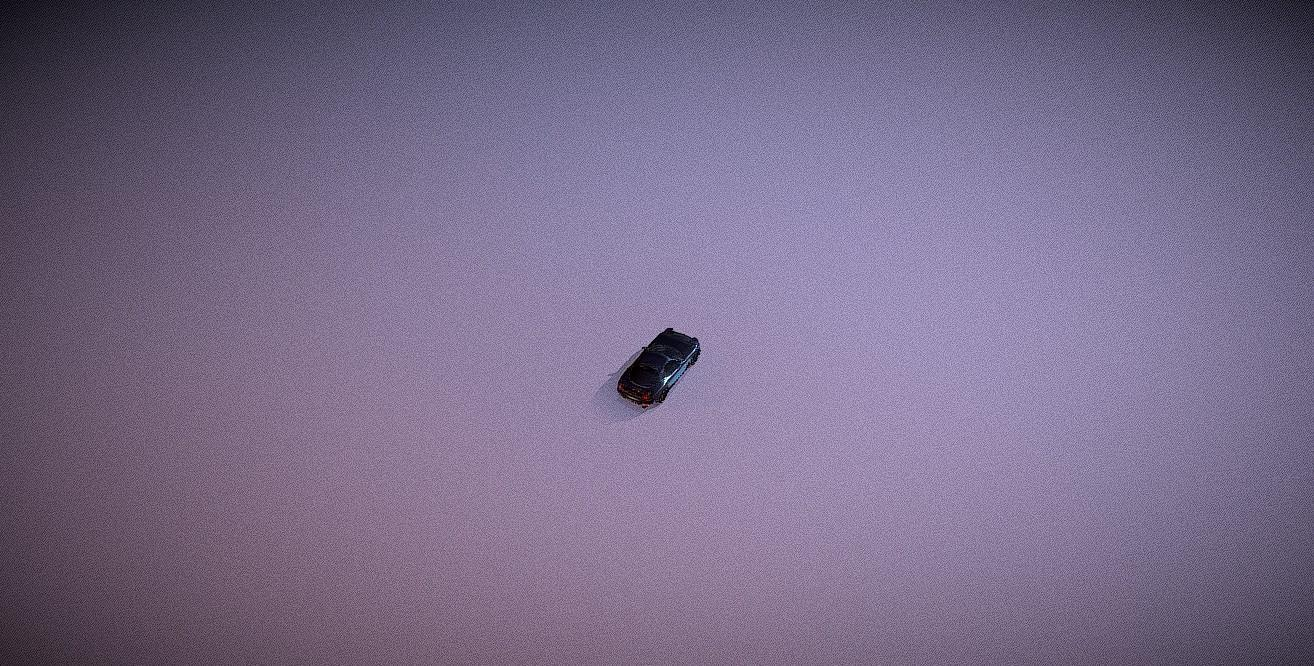Car: (615, 326, 700, 408)
